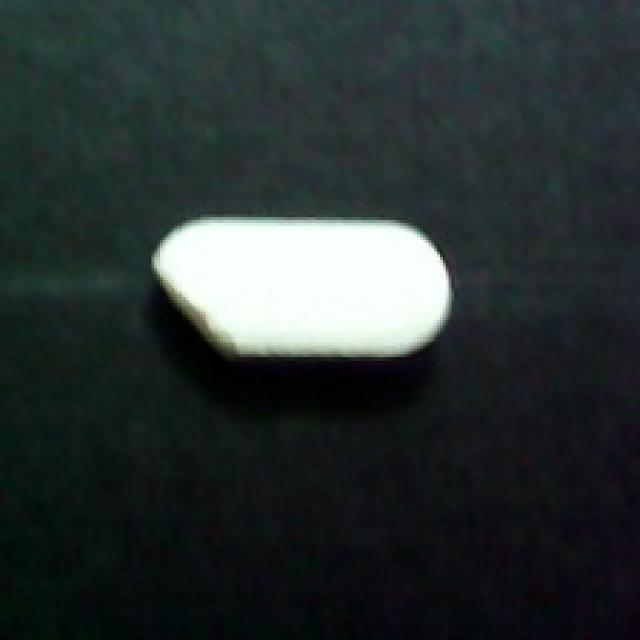defected: (146, 211, 457, 391)
